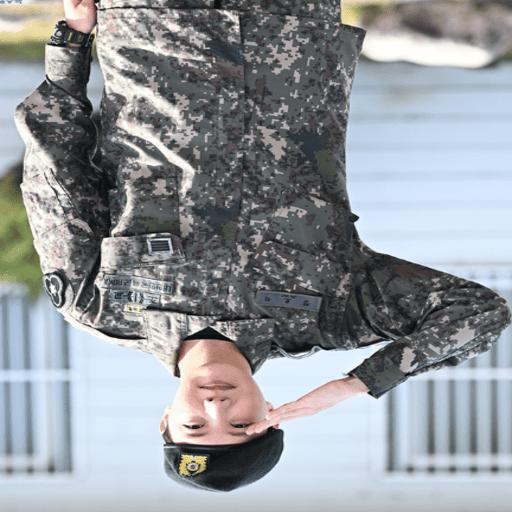korea army: (17, 1, 509, 490)
